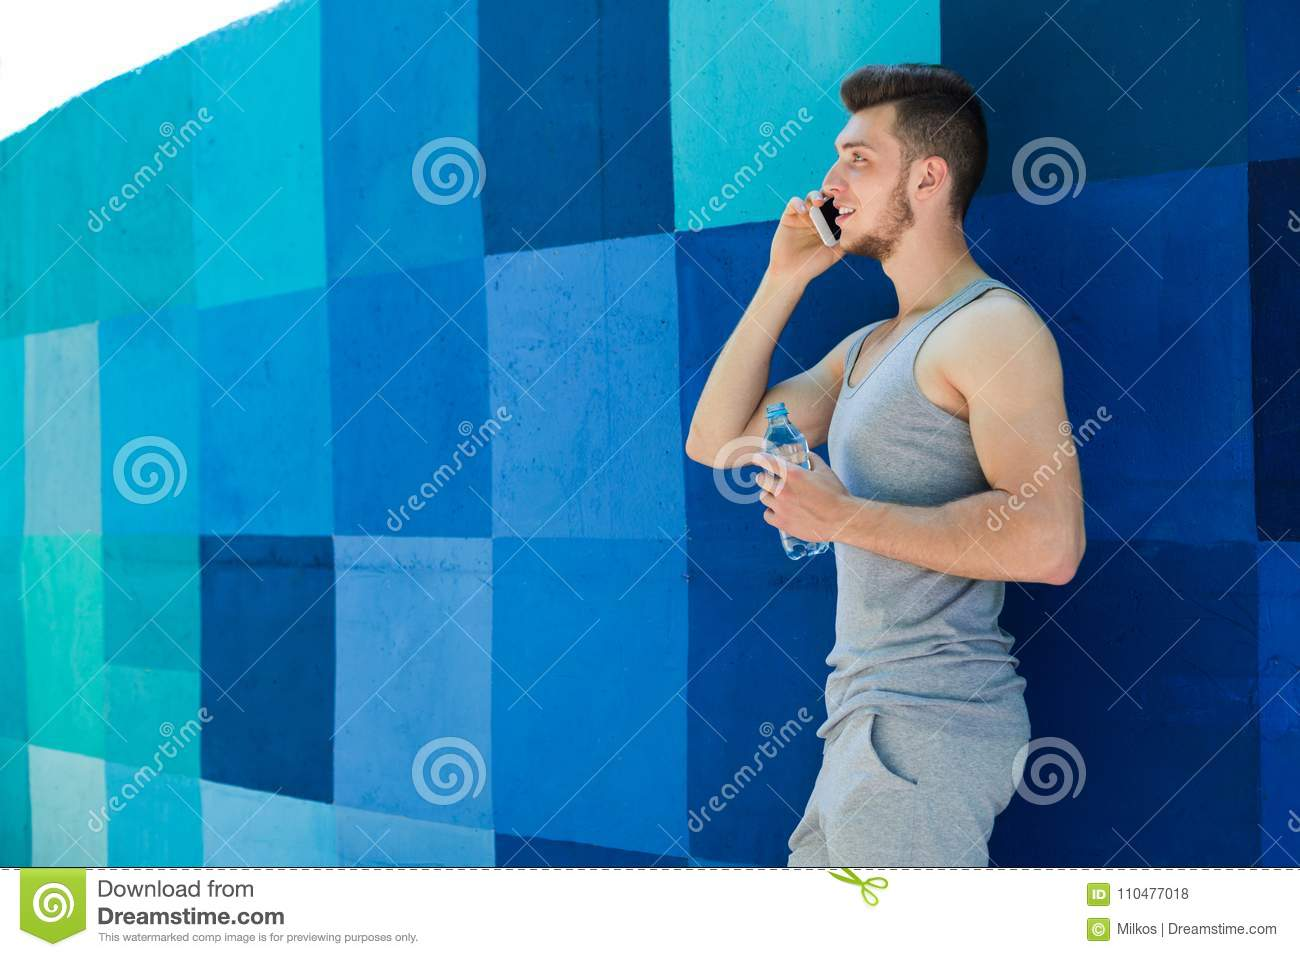phone: (809, 195, 845, 247)
talk: (766, 134, 883, 294)
